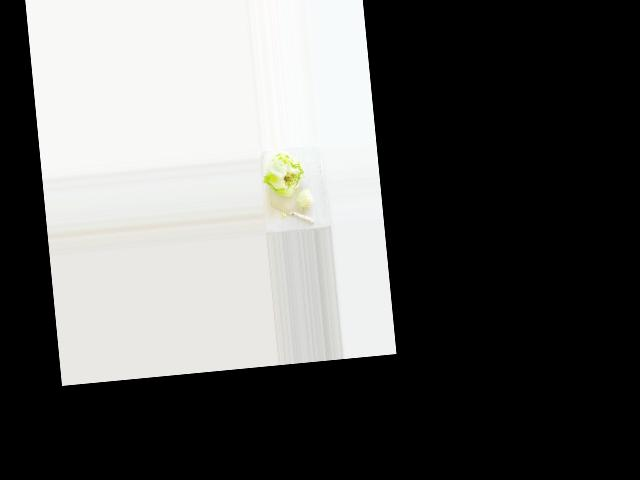lettuce: (262, 147, 306, 194)
